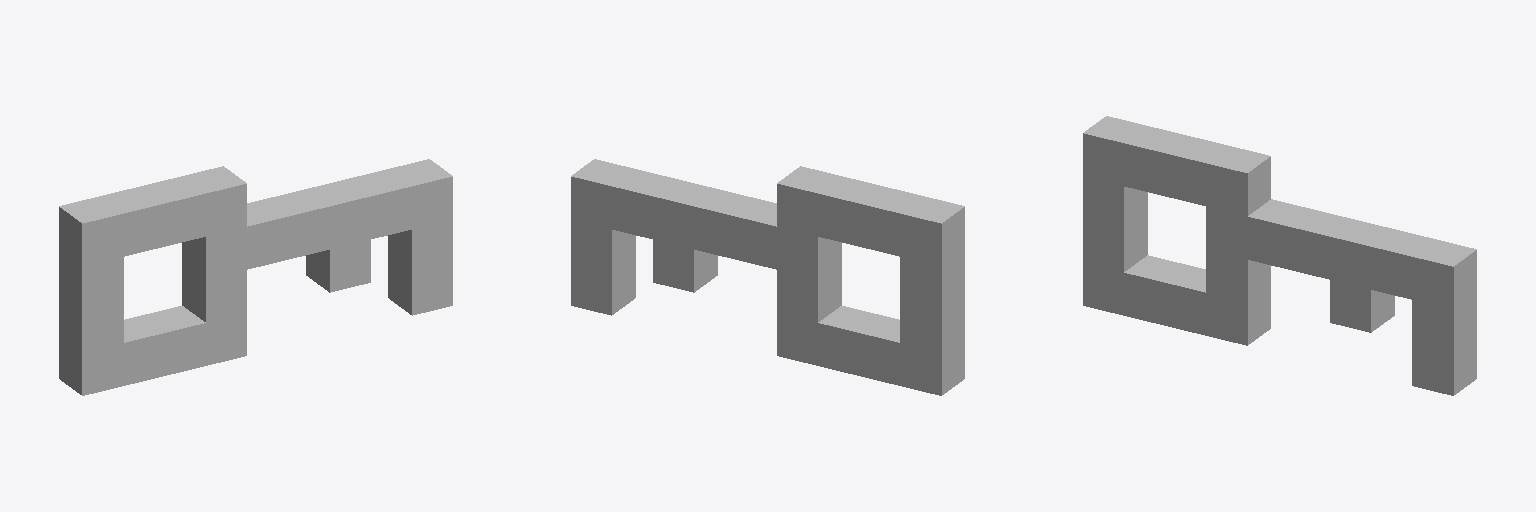
The model's file is key.obj.
The picture shows the model from 3 angles: view 1: azimuth 30°, elevation 25°; view 2: azimuth 150°, elevation 25°; view 3: azimuth 330°, elevation 25°; orthographic projection.
Size of the model in its own units: 9 by 4 by 1.